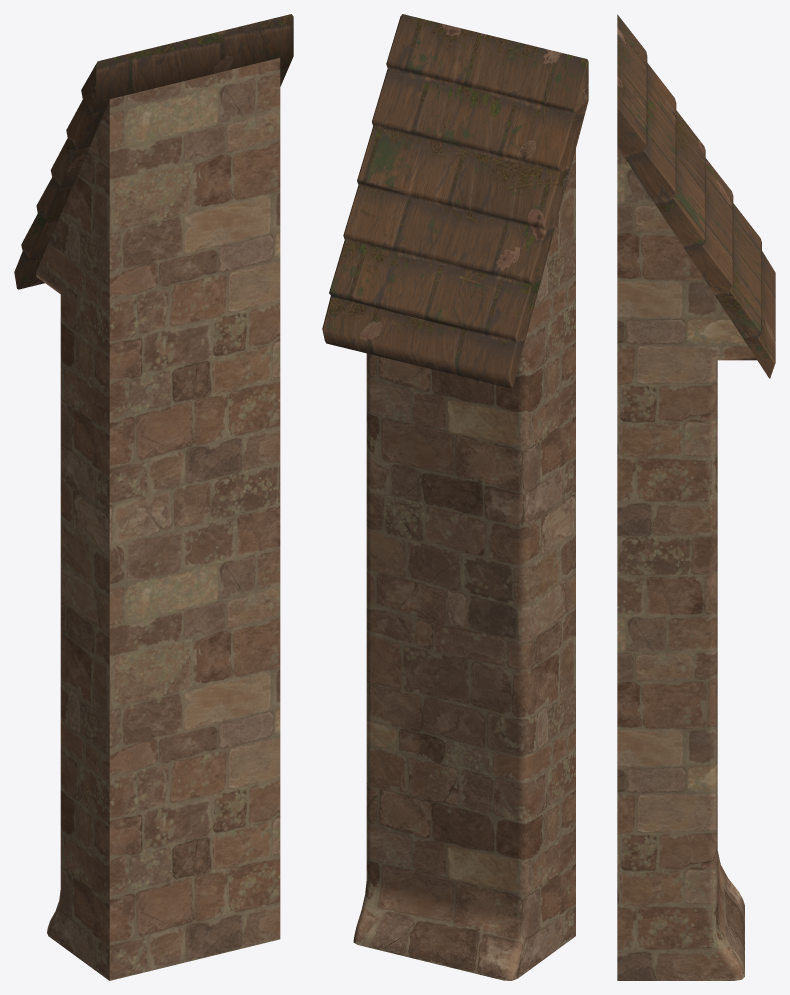
File: SM_ChurchPillar.fbx
3 renders of one model, left to right at view 1: azimuth 30°, elevation 25°; view 2: azimuth 150°, elevation 25°; view 3: azimuth 270°, elevation 25°, orthographic. The views are drawn at different scales.
Parts seen in each view (by area): view 1: SM_ChurchPillar_LOD0; view 2: SM_ChurchPillar_LOD0; view 3: SM_ChurchPillar_LOD0.
Boxes of the visible parts, x1,y1,x2,y2 form: SM_ChurchPillar_LOD0: (14, 14, 293, 980); SM_ChurchPillar_LOD0: (322, 14, 588, 980); SM_ChurchPillar_LOD0: (617, 14, 775, 980).
Size of the model in its own units: 86.69 by 63.04 by 387.
Materials: 2 (2 with a texture image).
